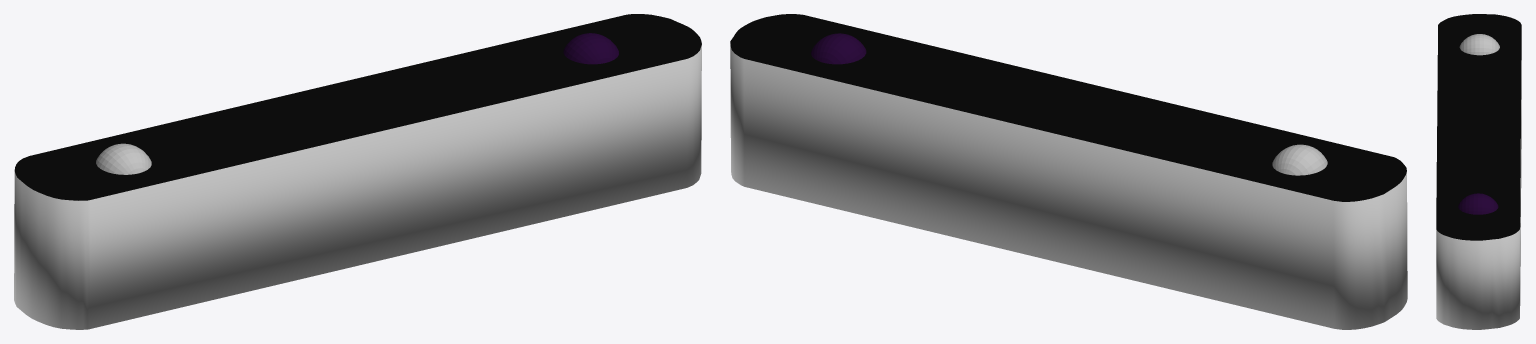
Rendered from camera.dae.
3 renders of one model, left to right at view 1: azimuth 30°, elevation 25°; view 2: azimuth 150°, elevation 25°; view 3: azimuth 270°, elevation 25°, orthographic. The views are drawn at different scales.
Parts seen in each view (by area): view 1: Body, Body_Cover_Front, Rigth_Cam, Left_Cam; view 2: Body, Body_Cover_Front, Rigth_Cam, Left_Cam; view 3: Body_Cover_Front, Body, Rigth_Cam, Left_Cam.
Part boxes in pixels (<box>): Body: <box>14,45,701,329</box>; Body_Cover_Front: <box>14,14,701,200</box>; Rigth_Cam: <box>563,33,618,64</box>; Left_Cam: <box>96,143,151,174</box>; Body: <box>730,44,1407,329</box>; Body_Cover_Front: <box>730,14,1406,201</box>; Rigth_Cam: <box>811,33,866,64</box>; Left_Cam: <box>1272,144,1327,175</box>; Body_Cover_Front: <box>1436,14,1521,240</box>; Body: <box>1436,60,1521,329</box>; Rigth_Cam: <box>1458,193,1498,214</box>; Left_Cam: <box>1459,34,1499,55</box>.
Bounding box in the file's own units: 0.1862 × 0.03 × 0.0398.
